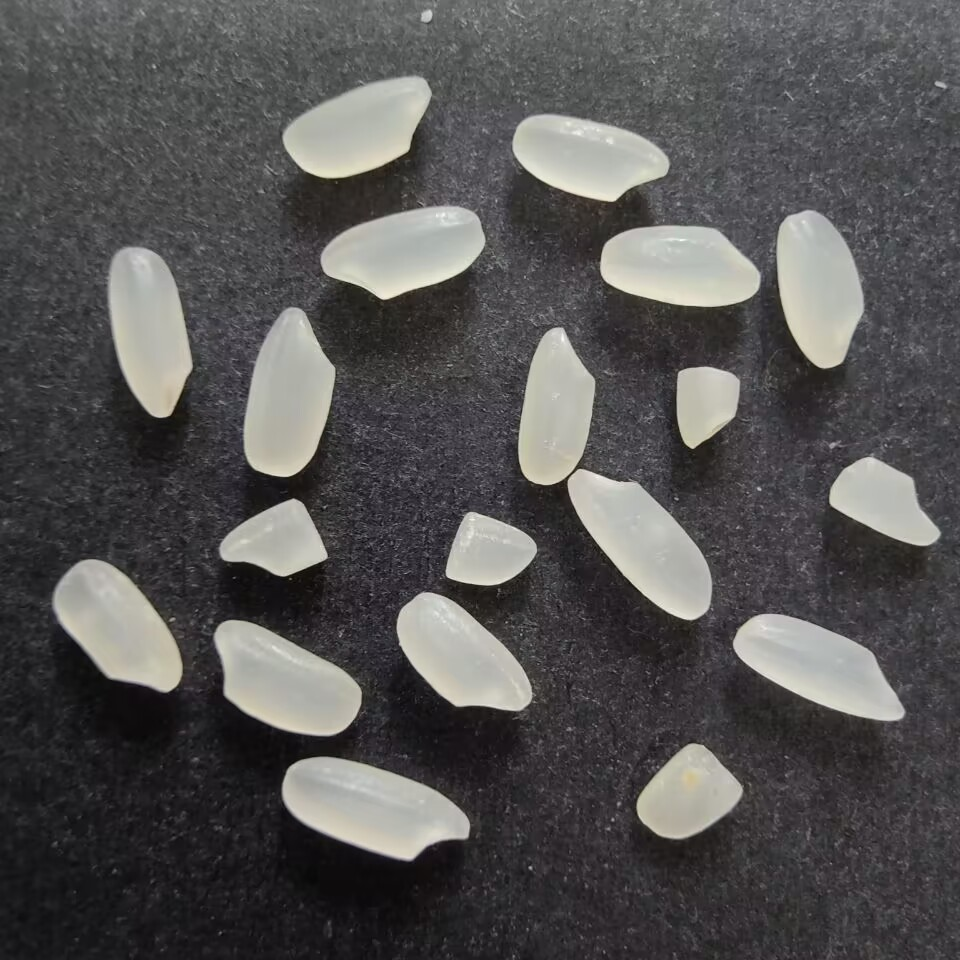broken: (634, 738, 746, 845), (824, 455, 943, 549), (219, 494, 330, 580), (441, 507, 539, 588), (673, 359, 742, 453)
rice: (566, 467, 715, 624), (275, 754, 473, 870), (731, 610, 905, 729), (211, 617, 364, 739), (51, 559, 185, 694), (395, 591, 536, 715), (317, 200, 486, 303), (279, 71, 437, 180), (242, 304, 340, 478), (101, 243, 197, 420), (770, 207, 870, 370), (508, 112, 675, 204), (596, 224, 761, 308), (513, 323, 594, 485)
